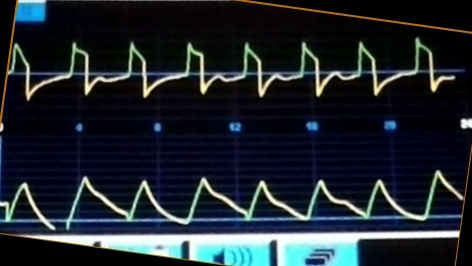Premature_cycling Flow: (9, 36, 454, 104)
Premature_cycling Volume: (1, 168, 461, 229)
